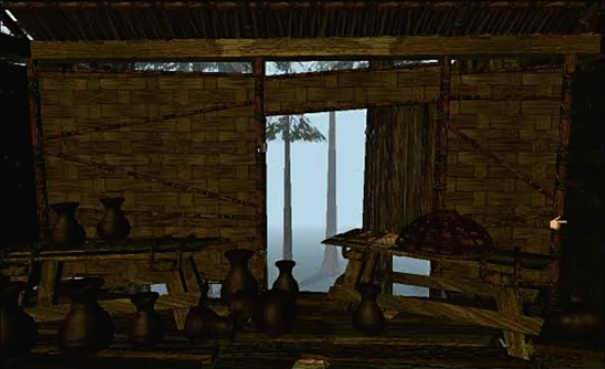Pointer: (547, 212, 568, 231)
